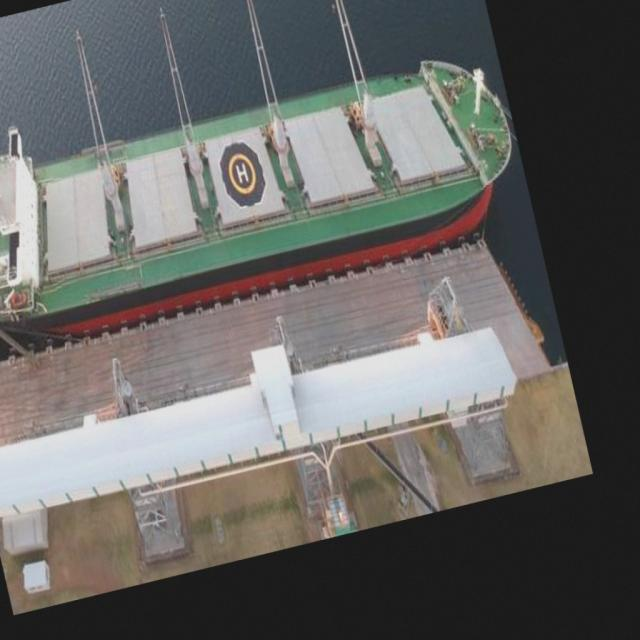helipad: (226, 152, 257, 194)
